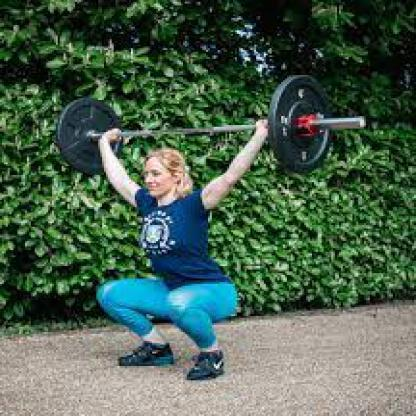barbell: (59, 75, 367, 175)
